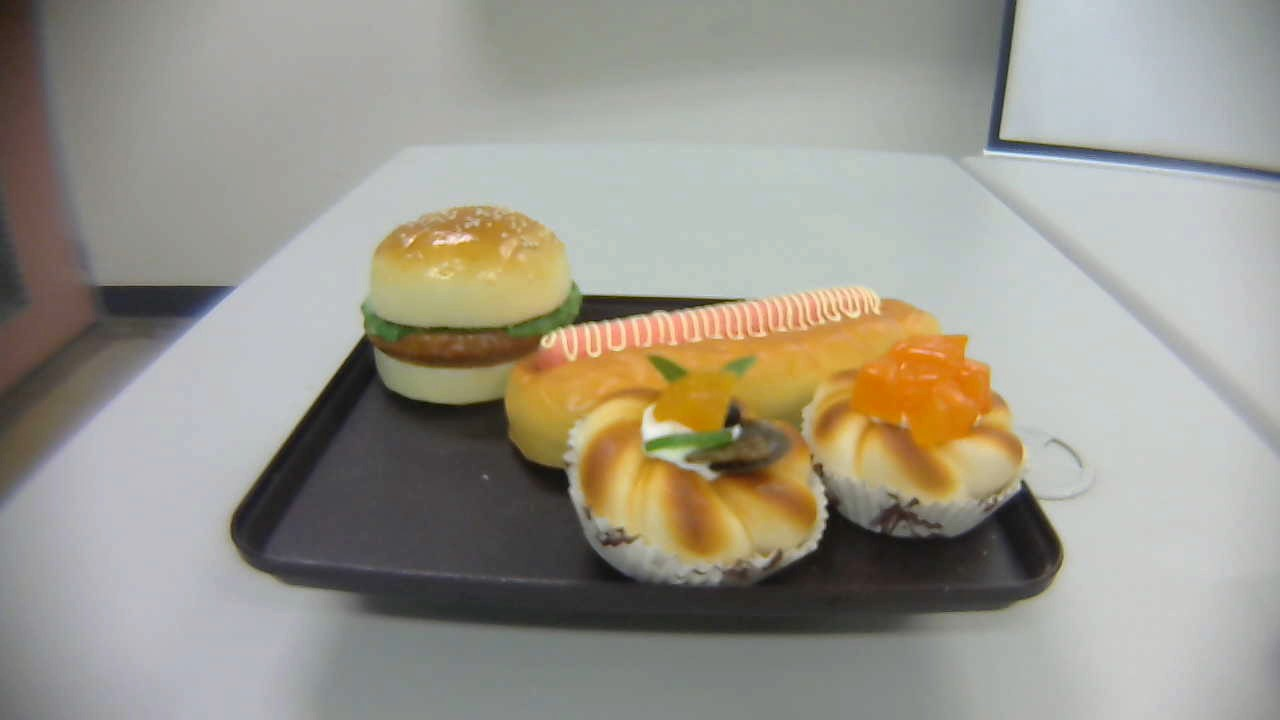fruit tart: (567, 353, 828, 591)
hamburger: (360, 204, 582, 407)
hot dog: (506, 288, 942, 465)
mango tart: (802, 333, 1028, 539)
